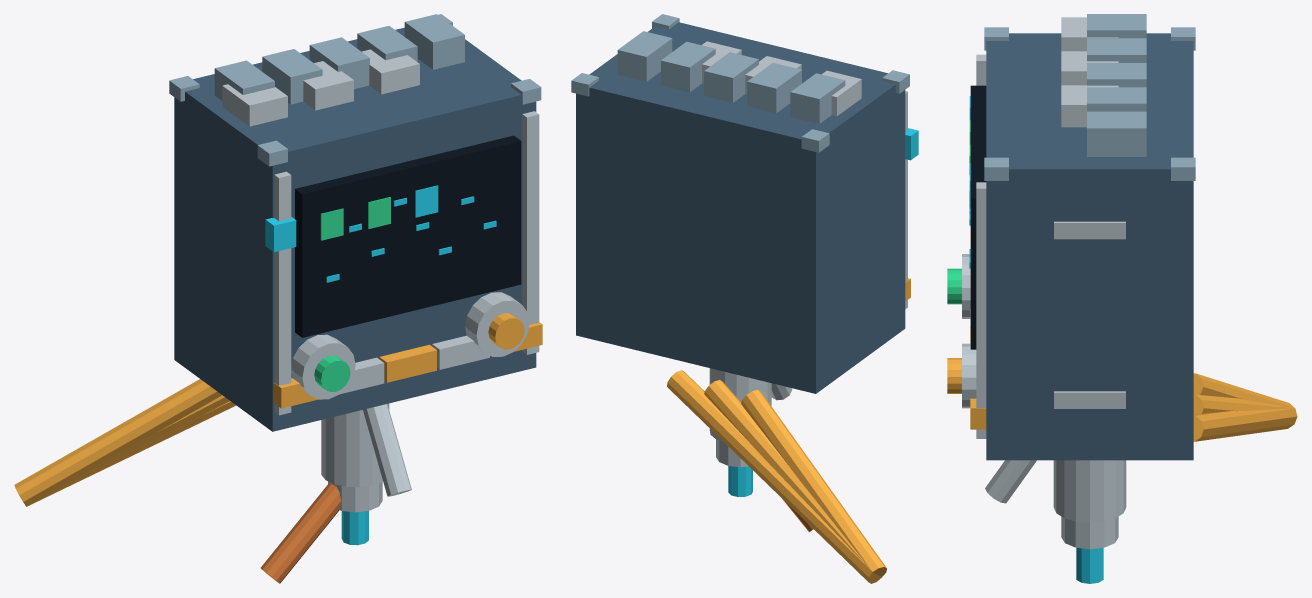
Rendered from 38_L78_LowKSurfaceChargingSensor.fbx.
3 views of the same model, side by side, from view 1: azimuth 30°, elevation 25°; view 2: azimuth 150°, elevation 25°; view 3: azimuth 270°, elevation 25° (orthographic). The views are drawn at different scales.
Visible parts, largest first — view 1: LowKSurfaceChargingSensor, LowKSurfaceChargingSensor_Part_0043, LowKSurfaceChargingSensor_Part_0044; view 2: LowKSurfaceChargingSensor, LowKSurfaceChargingSensor_Part_0044, LowKSurfaceChargingSensor_Part_0043; view 3: LowKSurfaceChargingSensor, LowKSurfaceChargingSensor_Part_0043, LowKSurfaceChargingSensor_Part_0044.
Part boxes in pixels (x1,y1,x2,y2): LowKSurfaceChargingSensor: (14,14,542,583); LowKSurfaceChargingSensor_Part_0043: (328,481,382,512); LowKSurfaceChargingSensor_Part_0044: (341,511,368,545); LowKSurfaceChargingSensor: (571,14,918,583); LowKSurfaceChargingSensor_Part_0044: (728,466,752,496); LowKSurfaceChargingSensor_Part_0043: (716,439,748,467); LowKSurfaceChargingSensor: (947,14,1297,522); LowKSurfaceChargingSensor_Part_0043: (1061,516,1118,549); LowKSurfaceChargingSensor_Part_0044: (1076,547,1103,583).
Bounding box in the file's own units: 65.11 × 81.38 × 48.64.
